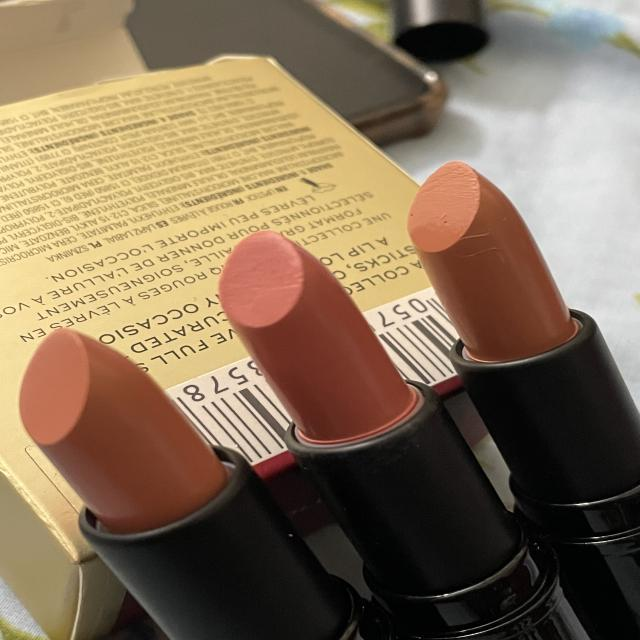lip stick: (0, 308, 222, 640), (168, 215, 423, 500), (378, 145, 626, 415)
